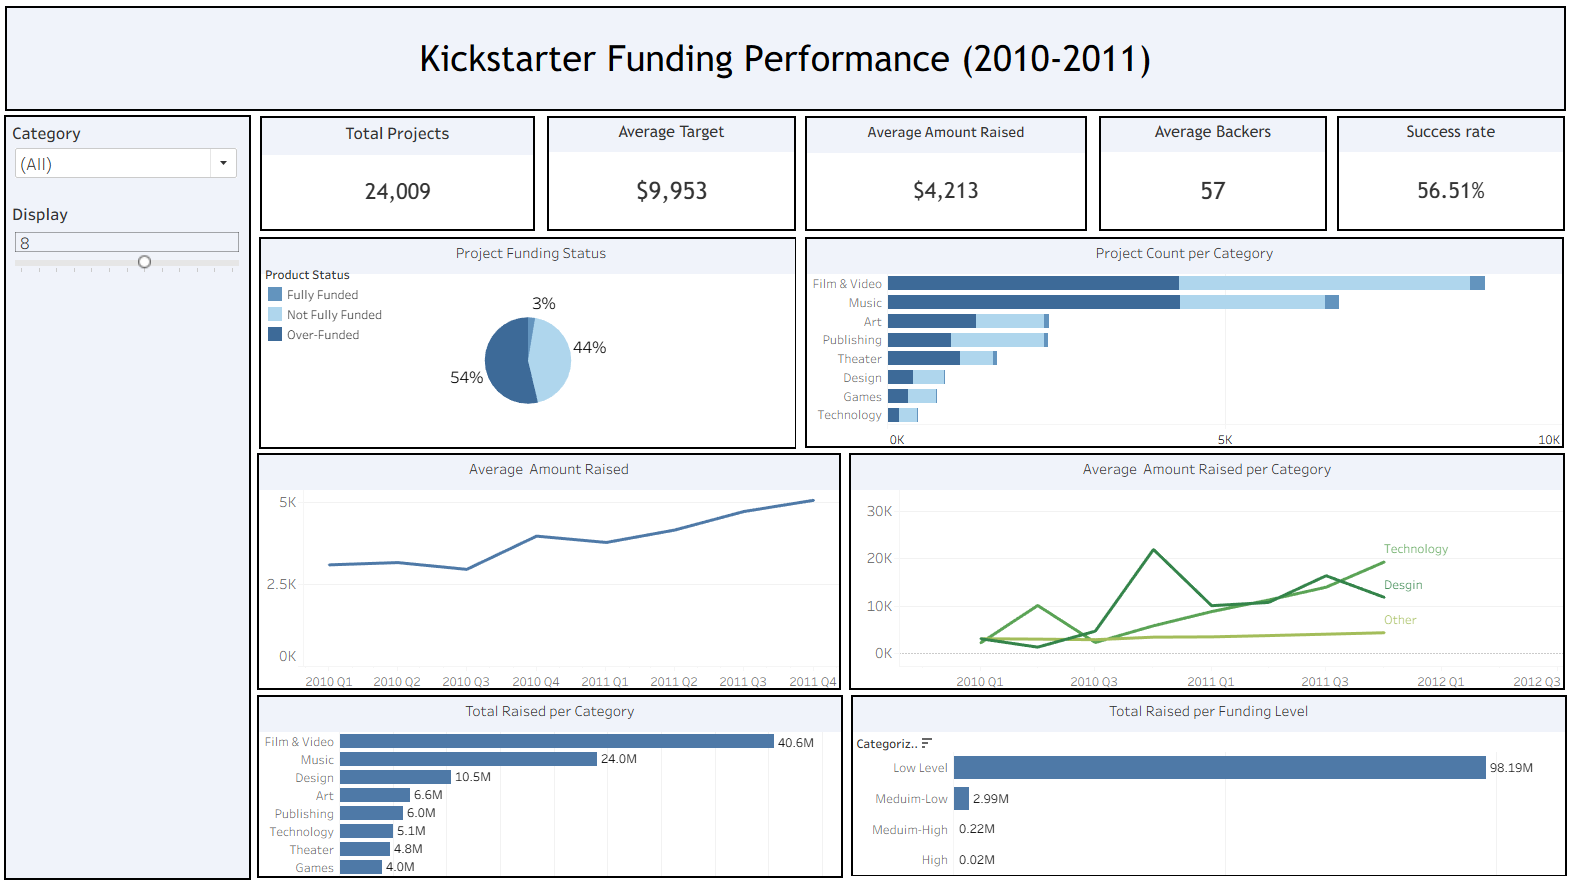

The dashboard page shown, as its layout file describes it:
{"tool":"tableau","page":{"name":"Final dashboard (2)","canvas":[1600,900],"ordinal":0},"visuals":[{"type":"text","box":[23.4,11.7,1560.9,105.5]},{"type":"blank","box":[21.9,120.7,246.9,765.2]},{"type":"worksheet","title":"Total projects","mark":"Automatic","box":[278.1,121.9,275,114.8]},{"type":"worksheet","title":"Avg Goal","mark":"Automatic","box":[564.6,121.9,249.5,114.8]},{"type":"worksheet","title":"Avg pledge","mark":"Automatic","box":[823.4,121.9,282.3,114.8]},{"type":"worksheet","title":"Avg Backer","mark":"Automatic","box":[1117.2,121.9,228.1,114.8]},{"type":"worksheet","title":"Succes rate","mark":"Automatic","box":[1354.7,121.9,228.1,114.8]},{"type":"filter","title":"Funding Dist cleaned","param":"[federated.1pkr3cz1cpf5l012f2f9304olb7i].[none:Calculation_2090796128759058434:n","box":[29.7,127.7,228.1,73.8]},{"type":"parameter","param":"[Parameters].[Parameter 1]","box":[29.7,208.6,229.7,91.4]},{"type":"worksheet","title":"Status  ","mark":"Pie","box":[276.6,242.6,537.5,212.1]},{"type":"worksheet","title":"Funding Dist cleaned","mark":"Automatic","rows":["Calculation_2090796128759058434"],"cols":["Calculation_1470425279400120320"],"box":[823.4,242.6,759.4,210.9]},{"type":"legend","title":"Status  ","param":"[federated.1pkr3cz1cpf5l012f2f9304olb7i].[none:Product Status:nk]","box":[282.8,271.9,192.2,91.4]},{"type":"worksheet","title":" Rev line","mark":"Automatic","rows":["pledged"],"cols":["funded date"],"box":[275,459.4,584.4,236.7]},{"type":"worksheet","title":"Rev line (2)","mark":"Automatic","rows":["pledged"],"cols":["funded date"],"box":[867.2,459.4,715.6,236.7]},{"type":"worksheet","title":"Total rev by category","mark":"Automatic","rows":["Calculation_2090796128759058434"],"cols":["pledged"],"box":[275,700.8,585.9,182.8]},{"type":"worksheet","title":"Total Rev by Level","mark":"Automatic","rows":["Categorized level"],"cols":["pledged"],"box":[869.1,700.8,715.7,181.6]}]}

Visuals, with their boxes in screenshot pixels (x1, y1, x2, y2), scaled from the page's 1600x900 canvas onto the 1572x883 screenshot:
text: locate(23, 11, 1557, 115)
blank: locate(22, 118, 264, 869)
"Total projects" worksheet: locate(273, 120, 543, 232)
"Avg Goal" worksheet: locate(555, 120, 800, 232)
"Avg pledge" worksheet: locate(809, 120, 1086, 232)
"Avg Backer" worksheet: locate(1098, 120, 1322, 232)
"Succes rate" worksheet: locate(1331, 120, 1555, 232)
"Funding Dist cleaned" filter: locate(29, 125, 253, 198)
parameter: locate(29, 205, 255, 294)
"Status  " worksheet (Pie marks): locate(272, 238, 800, 446)
"Funding Dist cleaned" worksheet: locate(809, 238, 1555, 445)
"Status  " legend: locate(278, 267, 467, 356)
" Rev line" worksheet: locate(270, 451, 844, 683)
"Rev line (2)" worksheet: locate(852, 451, 1555, 683)
"Total rev by category" worksheet: locate(270, 688, 846, 867)
"Total Rev by Level" worksheet: locate(854, 688, 1557, 866)
